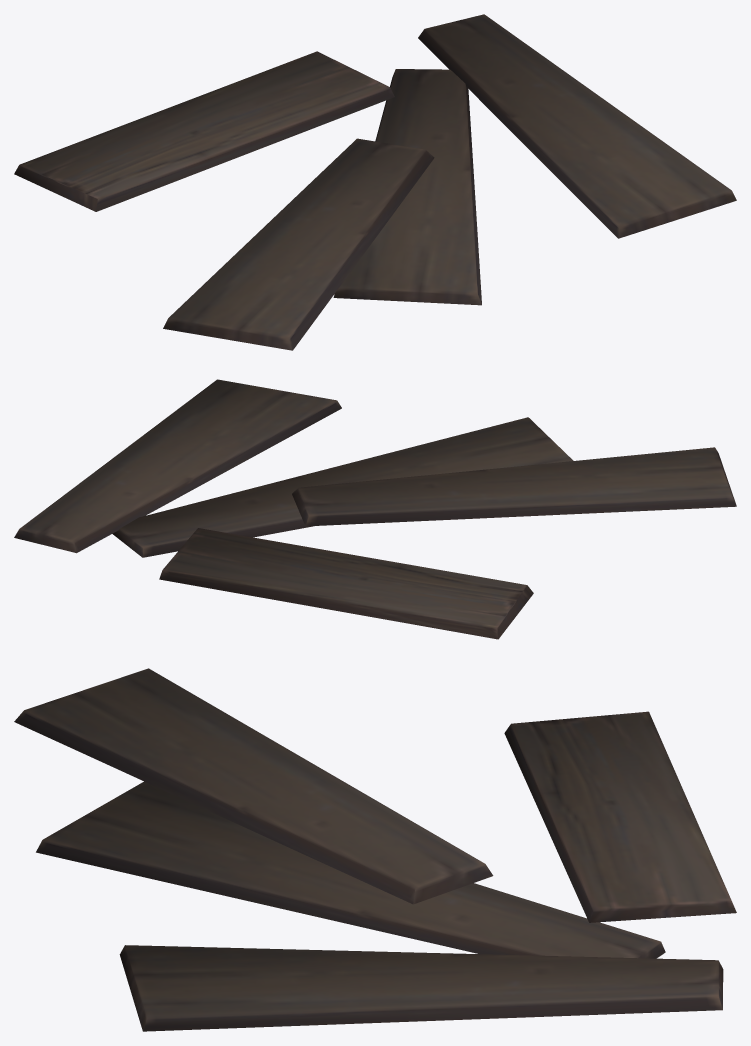
Rendered from Area_14_13.fbx.
3 renders of one model, top to bottom at view 1: azimuth 30°, elevation 25°; view 2: azimuth 150°, elevation 25°; view 3: azimuth 270°, elevation 25°, orthographic. The views are drawn at different scales.
Visible parts, largest first — view 1: Area_14_13; view 2: Area_14_13; view 3: Area_14_13.
Part boxes in pixels (x1,y1,x2,y2): Area_14_13: [14, 14, 736, 350]; Area_14_13: [14, 379, 736, 639]; Area_14_13: [14, 668, 736, 1031].
Bounding box in the file's own units: 489 × 16.11 × 435.
